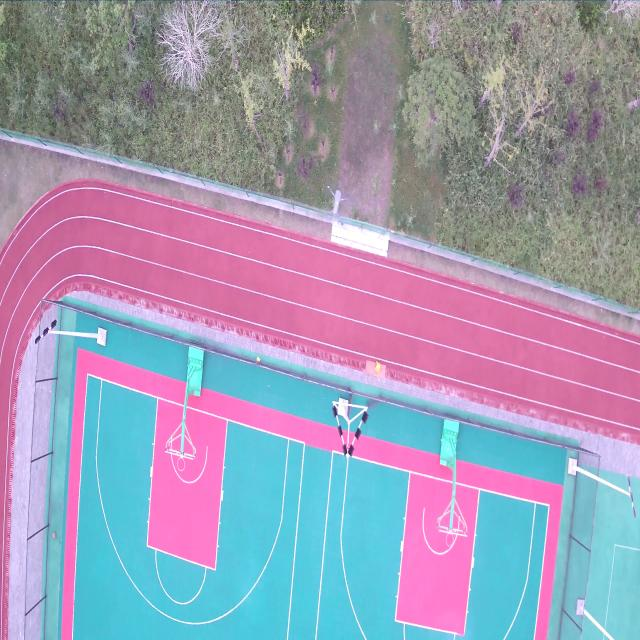UAV: (326, 185, 350, 227)
